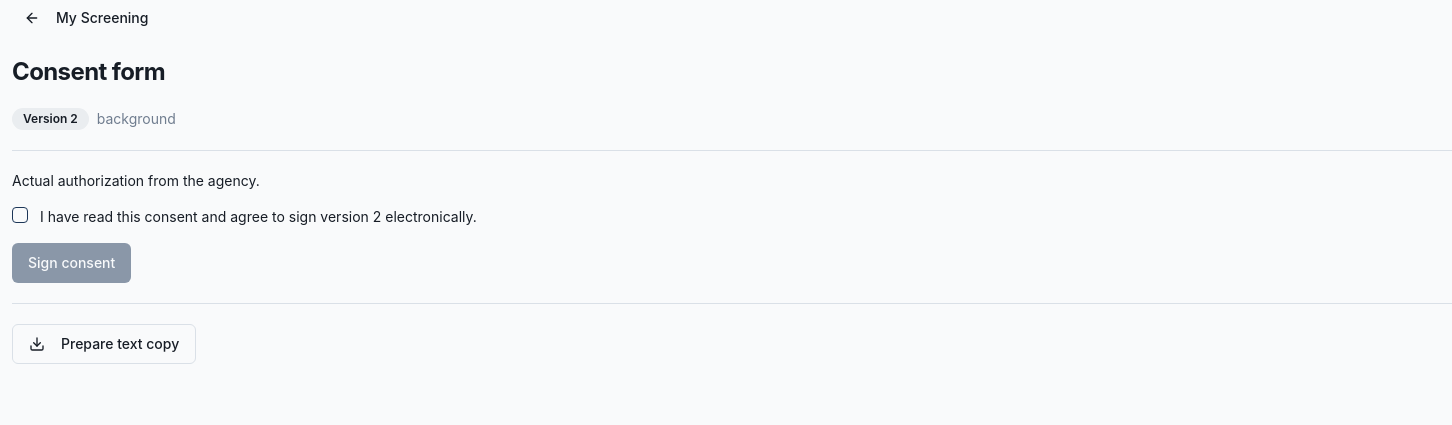
Scenario: worker consent actions › shows stale-version rejection without claiming the consent was signed
expect the text "Actual authorization from the agency." is shown: met, box [12, 172, 260, 189]
Click the checkbox: (20, 215) [12, 207, 28, 223]
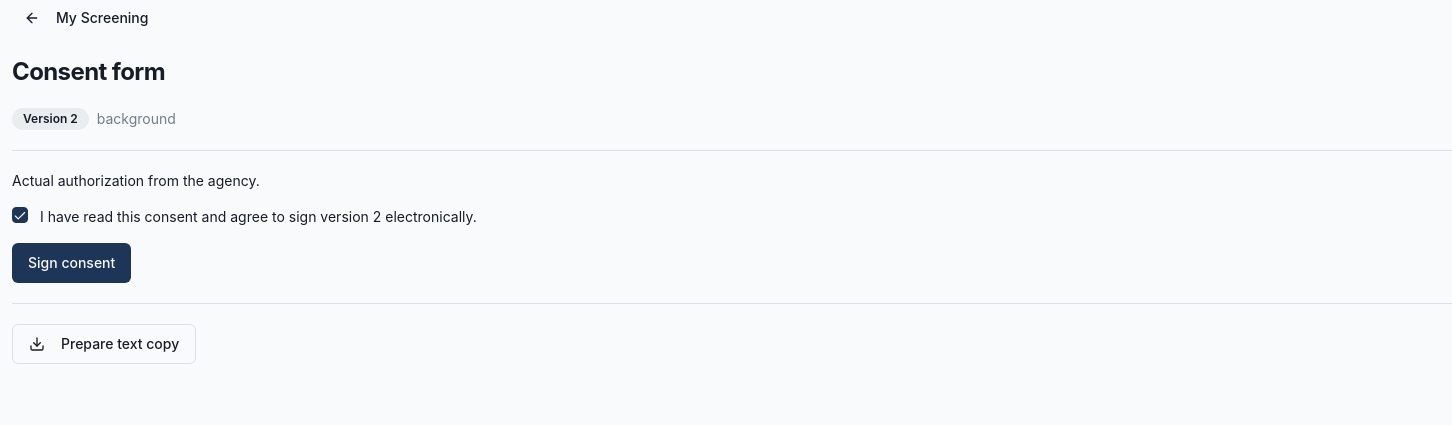
Click the button "Sign consent": (72, 263) [12, 243, 131, 283]
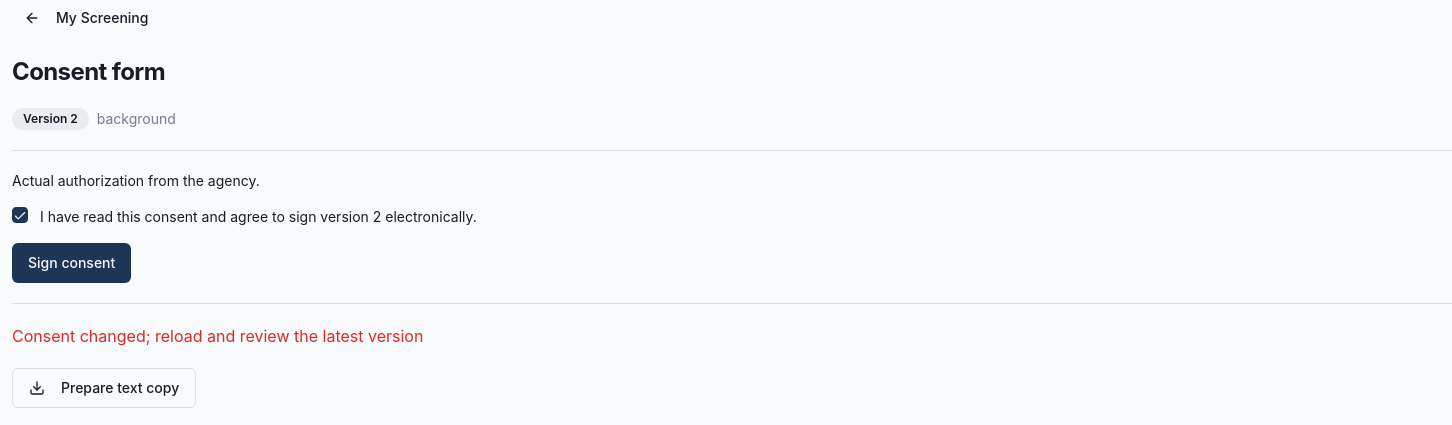
expect the message shows "Consent changed": met, box [12, 326, 423, 346]
